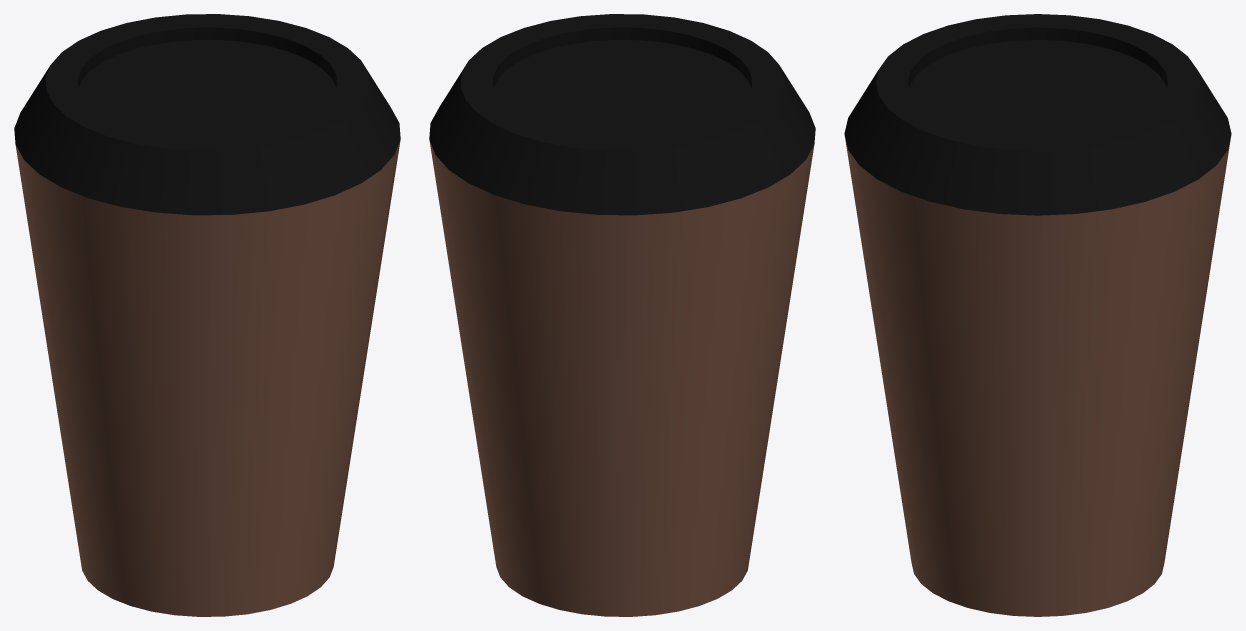
File: item4.fbx
3 views of the same model, side by side, from view 1: azimuth 30°, elevation 25°; view 2: azimuth 150°, elevation 25°; view 3: azimuth 270°, elevation 25° (orthographic).
Parts seen in each view (by area): view 1: Cylinder; view 2: Cylinder; view 3: Cylinder.
Boxes of the visible parts, <box> form: Cylinder: <box>14,14,400,616</box>; Cylinder: <box>429,14,815,616</box>; Cylinder: <box>844,14,1231,616</box>.
Size of the model in its own units: 252 by 346 by 252.
